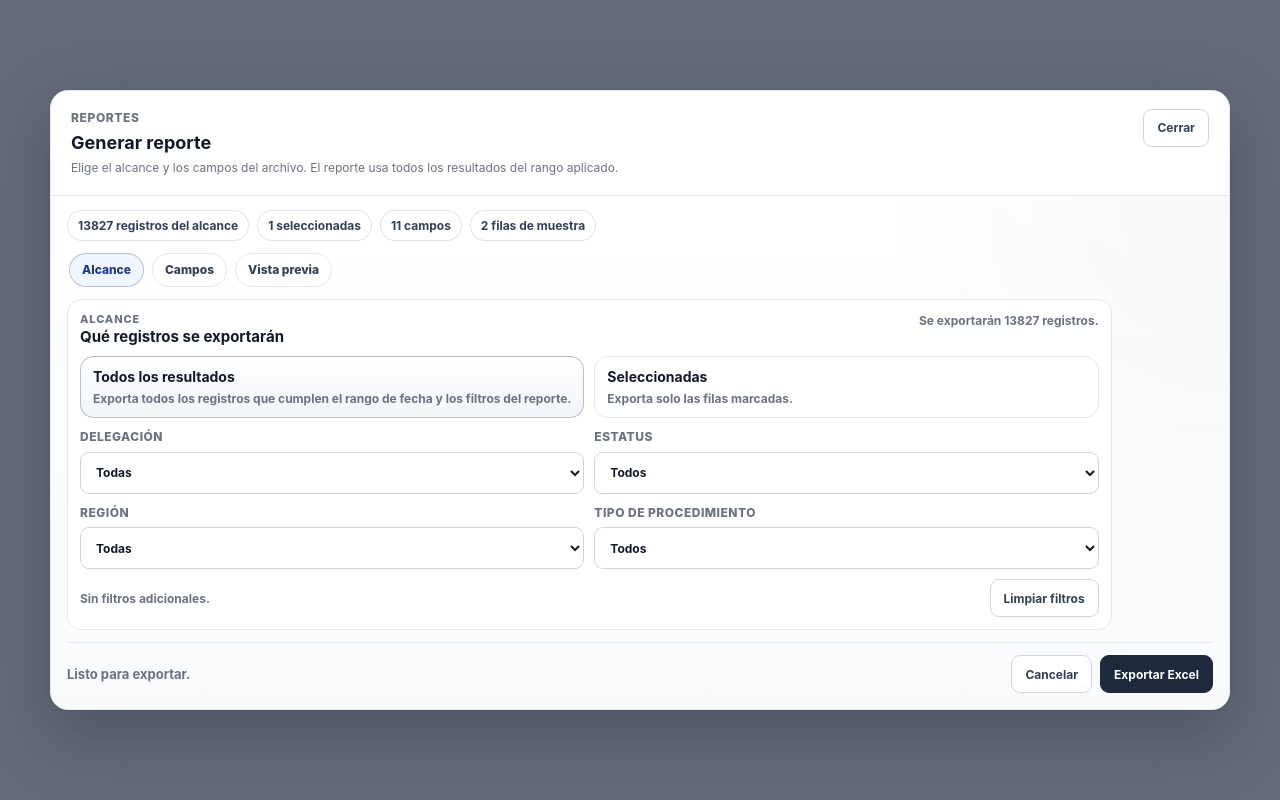
Test case: InfraccionesReportModal exportacion Excel › restaura el total al volver de seleccionadas a todos los resultados
Expected: the text "13827 registros del alcance" is shown, [67,210,249,241]
Click the button "Seleccionadas Exporta solo las filas marcadas.". click: (657, 376)
box: [594,356,1099,418]
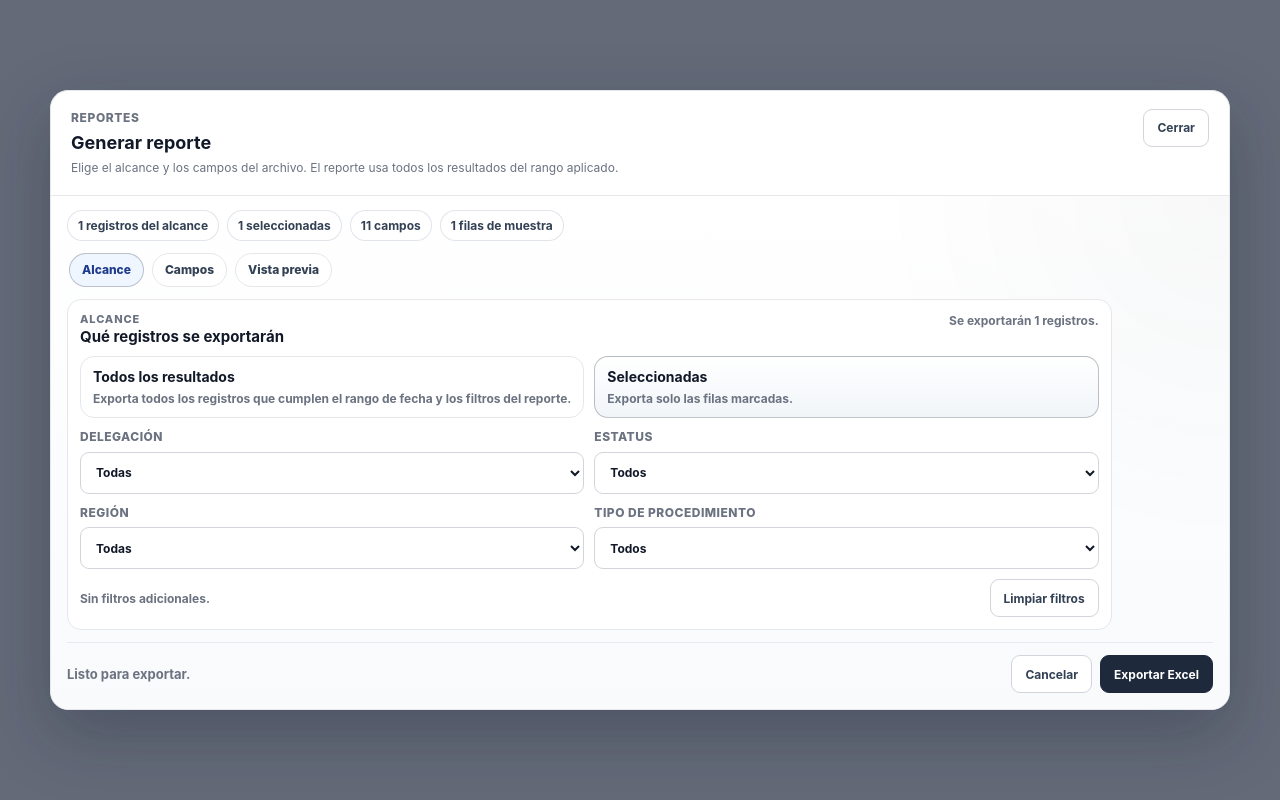
Expected: the button "Exportar Excel" is enabled, [1100,655,1213,693]
Click the button "Todos los resultados". click: (164, 376)
box: [80,356,584,418]
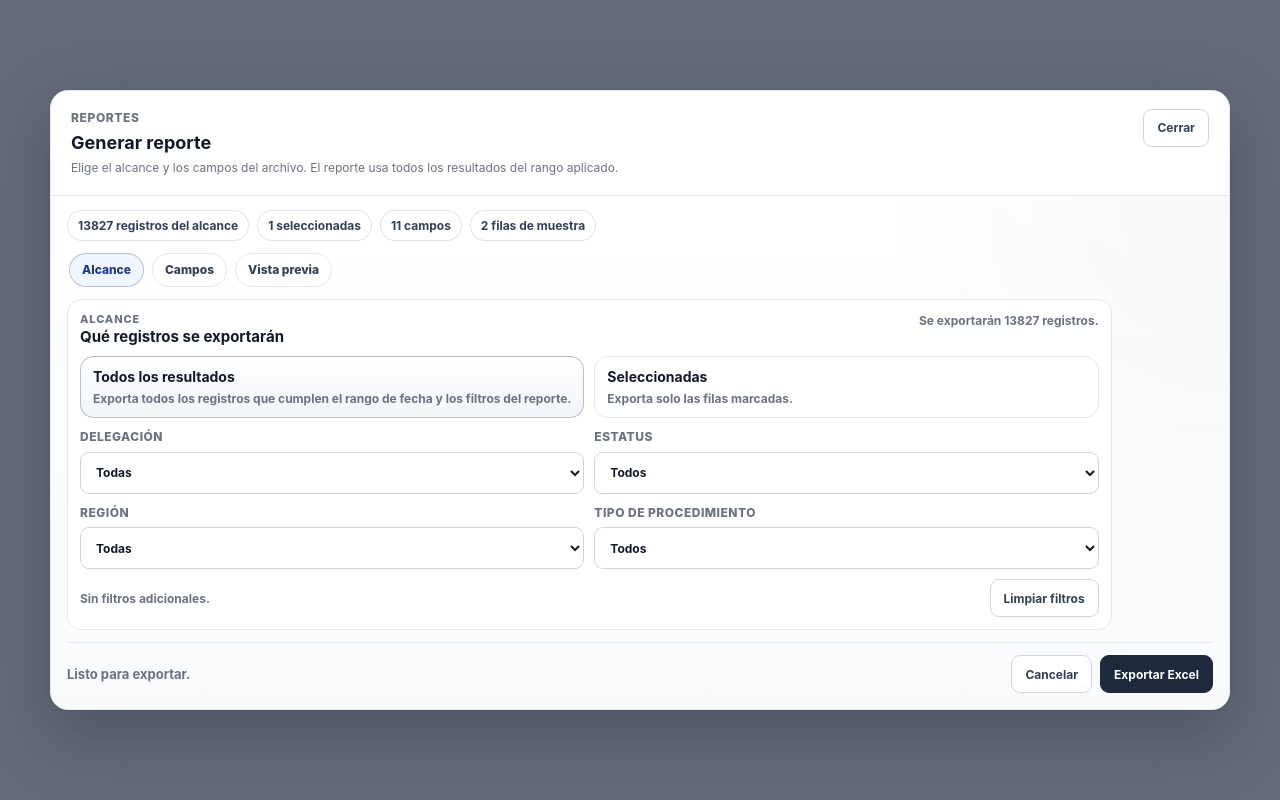
Expected: the button "Exportar Excel" is enabled, [1100,655,1213,693]
Expected: the text "13827 registros del alcance" is shown, [67,210,249,241]
